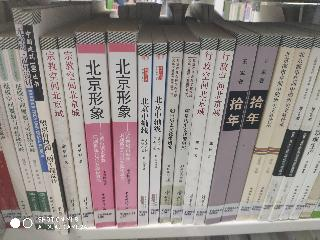book-spine: (245, 36, 312, 221), (254, 38, 320, 222), (217, 33, 280, 223), (234, 35, 298, 221), (201, 32, 258, 226), (13, 8, 60, 232), (22, 13, 67, 235), (4, 36, 53, 231), (190, 39, 235, 226), (0, 39, 44, 230), (265, 74, 320, 222), (40, 36, 82, 229), (77, 32, 115, 228), (178, 39, 217, 224), (58, 37, 94, 228), (167, 42, 199, 223), (108, 32, 136, 226), (156, 42, 182, 221), (146, 44, 167, 223), (139, 45, 152, 225)
